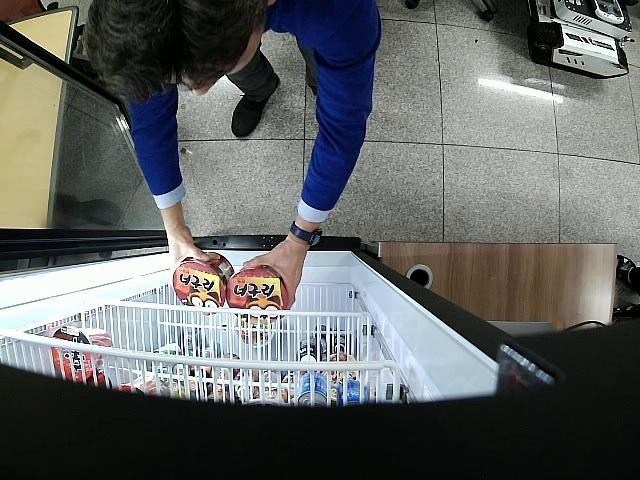05_nuguri_L: (173, 252, 235, 316), (227, 265, 290, 325)
